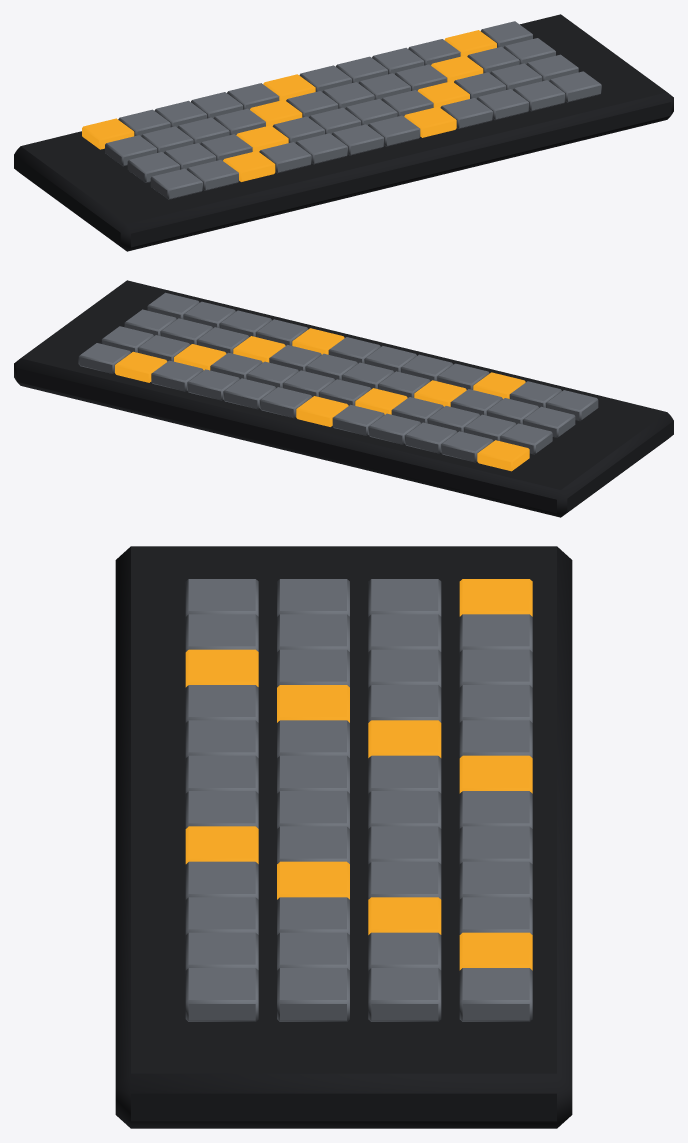
Rendered from terminal_keyboard.glb.
The picture shows the model from 3 angles, top to bottom: view 1: azimuth 30°, elevation 25°; view 2: azimuth 150°, elevation 25°; view 3: azimuth 270°, elevation 25°; orthographic projection. The views are drawn at different scales.
Parts seen in each view (by area): view 1: terminal_keyboard; view 2: terminal_keyboard; view 3: terminal_keyboard.
Boxes of the visible parts, left/top/right/bottom form: terminal_keyboard: left=14, top=14, right=673, bottom=251; terminal_keyboard: left=14, top=280, right=673, bottom=517; terminal_keyboard: left=115, top=546, right=572, bottom=1128.
Size of the model in its own units: 0.42 by 0.028 by 0.15.
